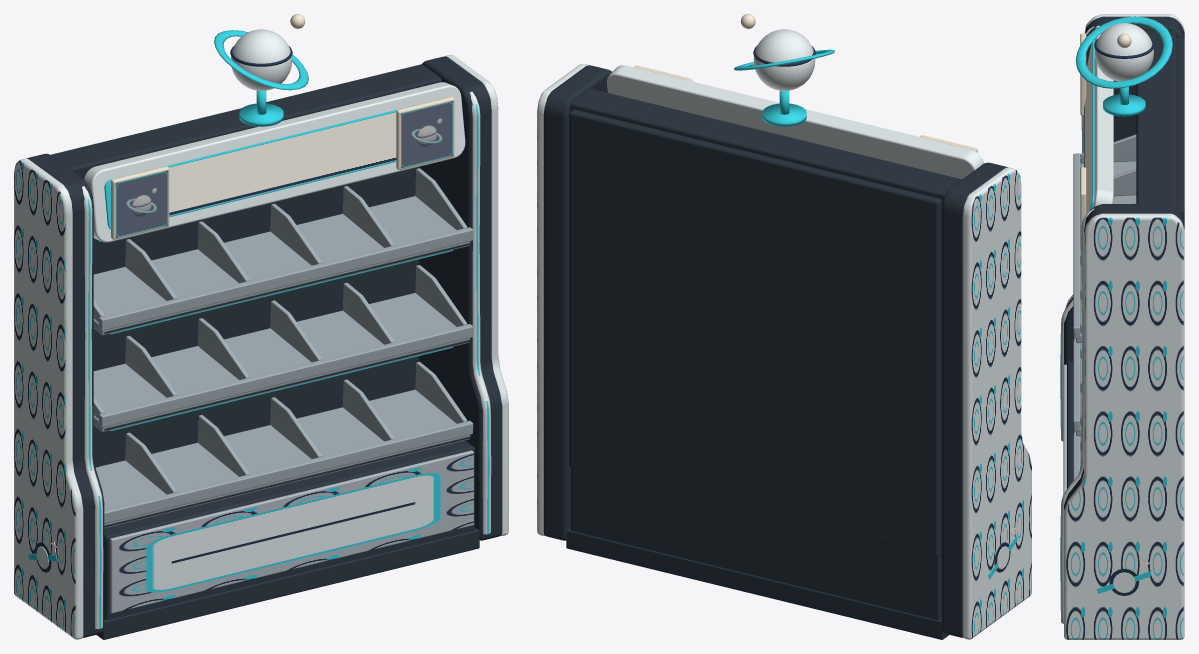
File: TH_SPACE.fbx
The picture shows the model from 3 angles, left to right: view 1: azimuth 30°, elevation 25°; view 2: azimuth 150°, elevation 25°; view 3: azimuth 270°, elevation 25°; orthographic projection. The views are drawn at different scales.
Parts seen in each view (by area): view 1: BaseFrontInset, Left_PaintedPanel, BackPanel.001, Right_StructuralWall, Tray_02, Tray_01, Tray_03, HeaderFace, HeaderBorder, TopCrossRail, Left_StructuralWall, ClosedSolidBase (+34 smaller); view 2: BackPanel.001, Left_PaintedPanel, ClosedSolidBase, Right_StructuralWall, HeaderBorder, Left_StructuralWall, TopCrossRail, LowerPlinth, Right_PaintedPanel, Ringed planet, TopperMount; view 3: Right_PaintedPanel, TopCrossRail, Ringed planet, HeaderBorder, Left_StructuralWall, Saturn rings, BackPanel.001, FrontLip_01, HeaderFace, RightHousing, Right_StructuralWall, ClosedSolidBase (+16 smaller).
Boxes of the visible parts, bbox=[...] form: BaseFrontInset: bbox=[110, 450, 473, 613]; Left_PaintedPanel: bbox=[14, 158, 83, 639]; BackPanel.001: bbox=[93, 167, 419, 467]; Right_StructuralWall: bbox=[419, 56, 502, 540]; Tray_02: bbox=[93, 293, 470, 431]; Tray_01: bbox=[93, 196, 470, 335]; Tray_03: bbox=[95, 389, 470, 528]; HeaderFace: bbox=[104, 98, 443, 229]; HeaderBorder: bbox=[84, 82, 465, 242]; TopCrossRail: bbox=[50, 64, 441, 179]; Left_StructuralWall: bbox=[27, 153, 104, 637]; ClosedSolidBase: bbox=[104, 440, 474, 619]; BackPanel.001: bbox=[569, 109, 941, 556]; Left_PaintedPanel: bbox=[962, 167, 1031, 639]; ClosedSolidBase: bbox=[571, 468, 941, 619]; Right_StructuralWall: bbox=[543, 65, 611, 540]; HeaderBorder: bbox=[607, 65, 983, 179]; Left_StructuralWall: bbox=[941, 162, 1008, 637]; TopCrossRail: bbox=[570, 89, 961, 206]; LowerPlinth: bbox=[566, 528, 948, 639]; Right_PaintedPanel: bbox=[537, 64, 589, 535]; Ringed planet: bbox=[753, 29, 815, 90]; TopperMount: bbox=[762, 103, 806, 126]; Right_PaintedPanel: bbox=[1064, 213, 1184, 639]; TopCrossRail: bbox=[1136, 31, 1176, 206]; Ringed planet: bbox=[1094, 23, 1153, 81]; HeaderBorder: bbox=[1093, 25, 1113, 207]; Left_StructuralWall: bbox=[1064, 16, 1184, 364]; Saturn rings: bbox=[1075, 16, 1172, 88]; BackPanel.001: bbox=[1176, 37, 1184, 219]; FrontLip_01: bbox=[1073, 153, 1080, 338]; HeaderFace: bbox=[1084, 39, 1094, 213]; RightHousing: bbox=[1060, 208, 1094, 623]; Right_StructuralWall: bbox=[1064, 204, 1184, 510]; ClosedSolidBase: bbox=[1067, 361, 1073, 488].
Bounding box in the file's own units: 3.62 × 4.34 × 0.9273.
